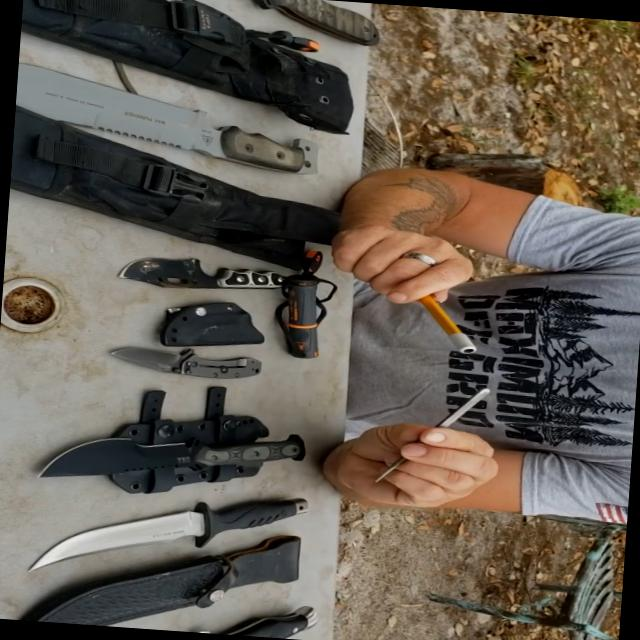knife: (11, 41, 357, 186), (32, 462, 314, 596), (56, 398, 344, 512), (117, 227, 330, 323), (110, 324, 304, 402)
